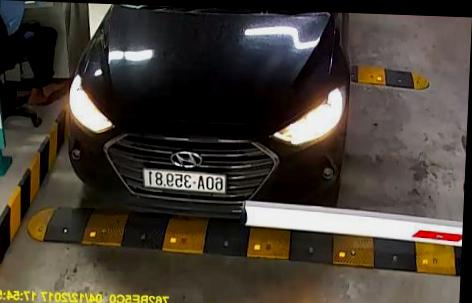License_Plate: (138, 167, 230, 192)
